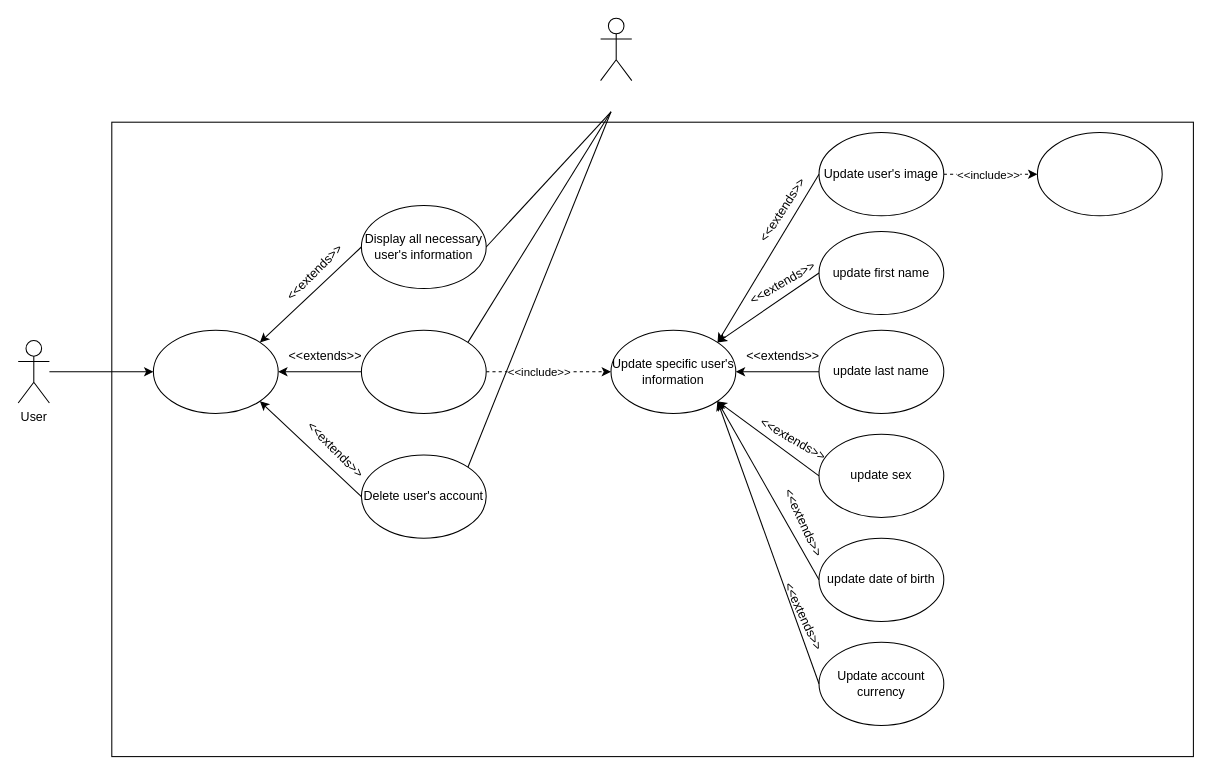
The diagram is 1212 pixels wide and 775 high, and some of its shapes have lost their labels. The centre of each missing label's shape, as x and y in pixels:
Spring: the point at 616,49
Update user's information: the point at 423,371
Upload image: the point at 1099,174
User infomation management: the point at 215,371
